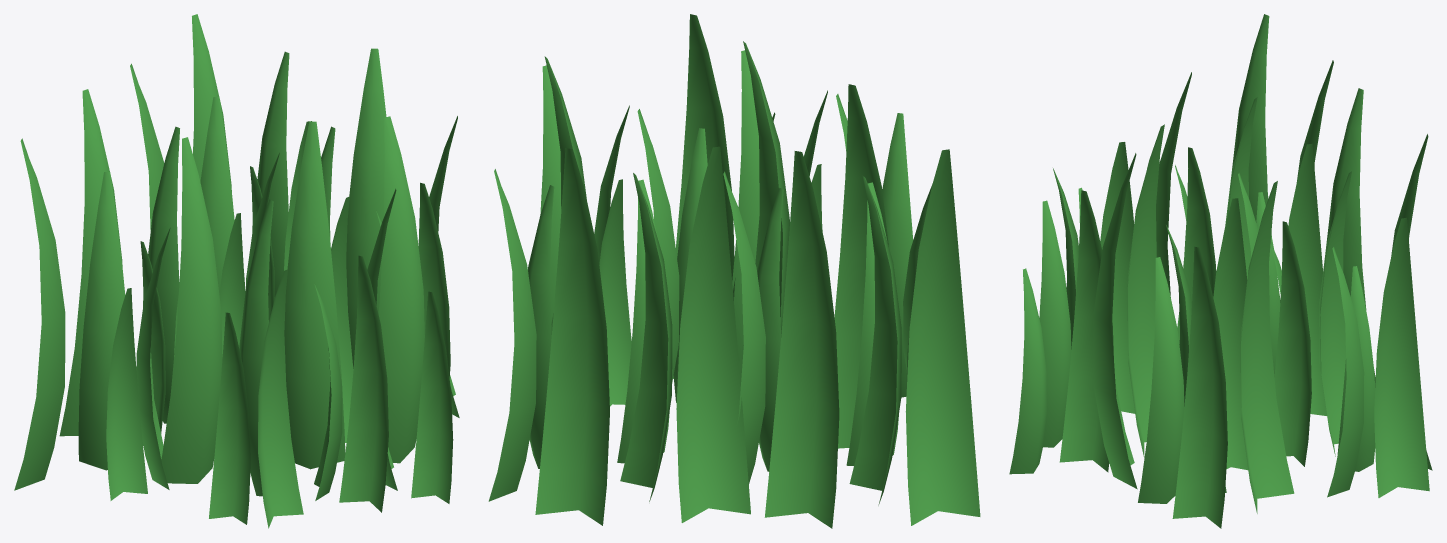
The model's file is Grass (M).fbx.
3 renders of one model, left to right at view 1: azimuth 30°, elevation 25°; view 2: azimuth 150°, elevation 25°; view 3: azimuth 270°, elevation 25°, orthographic. The views are drawn at different scales.
Parts seen in each view (by area): view 1: Grass (M); view 2: Grass (M); view 3: Grass (M).
Part boxes in pixels (<box>): Grass (M): <box>14,14,459,528</box>; Grass (M): <box>488,14,980,528</box>; Grass (M): <box>1009,14,1432,528</box>.
Size of the model in its own units: 70.27 by 52.72 by 62.69.
